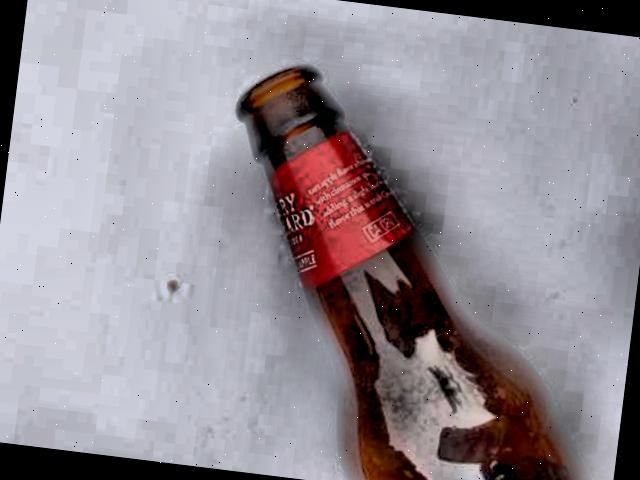Bottles: (159, 51, 640, 480)
